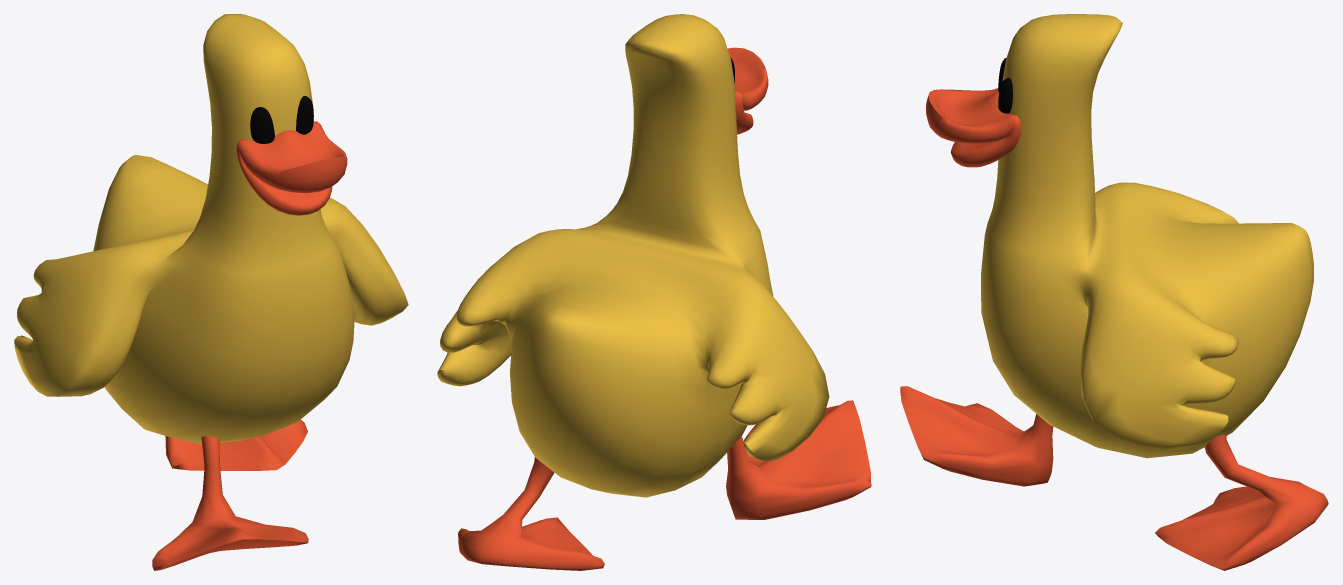
The model's file is Patatipatacula.fbx.
3 views of the same model, side by side, from view 1: azimuth 30°, elevation 25°; view 2: azimuth 150°, elevation 25°; view 3: azimuth 270°, elevation 25° (orthographic).
Parts seen in each view (by area): view 1: Duck; view 2: Duck; view 3: Duck.
Boxes of the visible parts, x1=… form: Duck: x1=14, y1=14, x2=408, y2=570; Duck: x1=437, y1=14, x2=871, y2=570; Duck: x1=900, y1=14, x2=1328, y2=570.
Bounding box in the file's own units: 135 × 186 × 147.
Materials: 1 (1 with a texture image).
